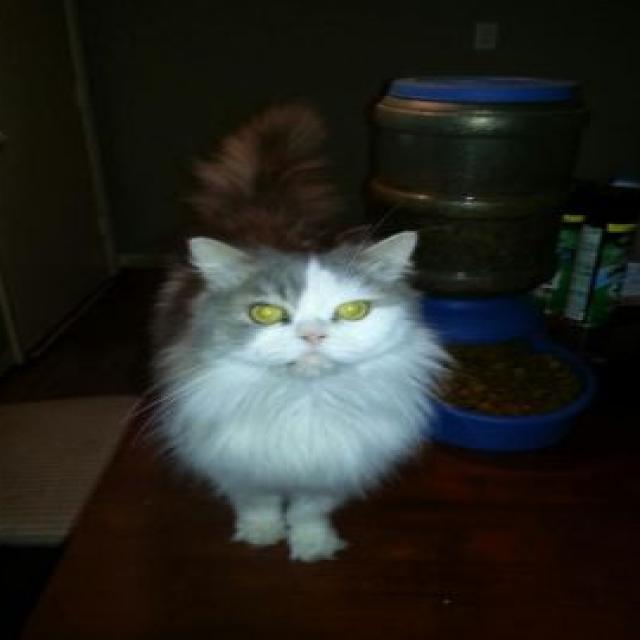Persian: (147, 98, 450, 567)
